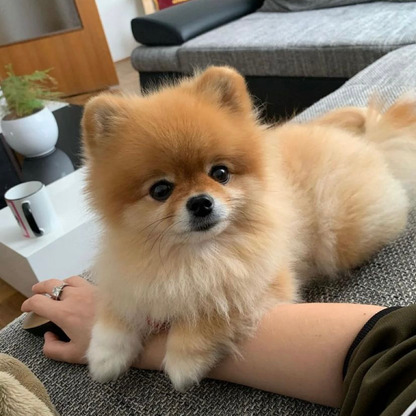Pomeranian: (60, 54, 380, 386)
